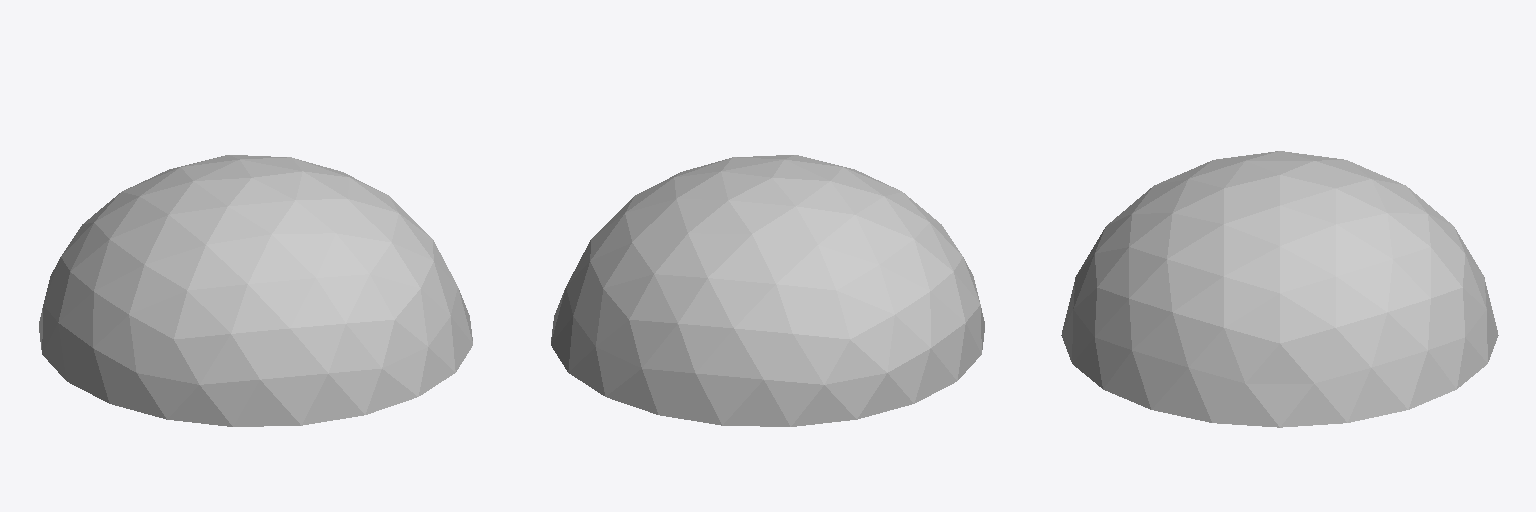
The model's file is sky.obj.
3 views of the same model, side by side, from view 1: azimuth 30°, elevation 25°; view 2: azimuth 150°, elevation 25°; view 3: azimuth 270°, elevation 25° (orthographic).
Size of the model in its own units: 1000 by 400 by 1000.